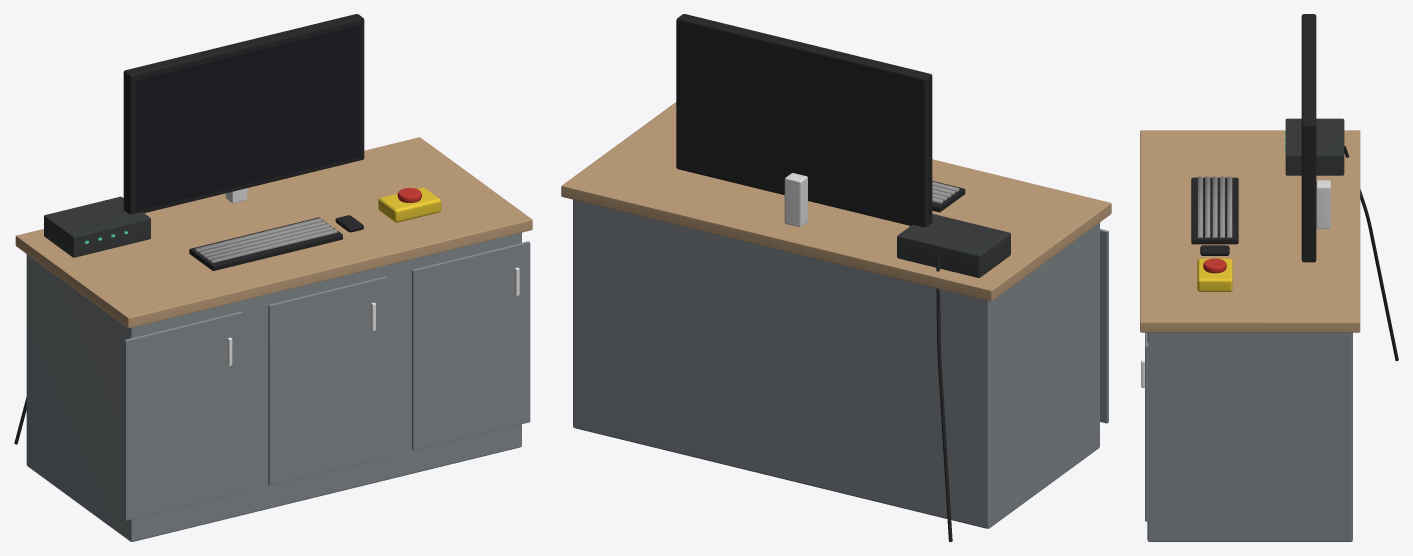
The model's file is industrial.workshop.dyno_desk.glb.
The picture shows the model from 3 angles, left to right: view 1: azimuth 30°, elevation 25°; view 2: azimuth 150°, elevation 25°; view 3: azimuth 270°, elevation 25°; orthographic projection. The views are drawn at different scales.
Parts seen in each view (by area): view 1: main__paint_889, main__timber_ca7, main__paint_122, main__paint_222, main__paint_333, main__paint_999, main__paint_ec3; view 2: main__paint_889, main__paint_222, main__timber_ca7, main__paint_333, main__galv_eee; view 3: main__paint_889, main__timber_ca7, main__paint_222, main__paint_333, main__paint_999, main__paint_ec3, main__galv_eee.
Part boxes in pixels (left/top/right/bottom): main__paint_889: left=26, top=232, right=530, bottom=541; main__timber_ca7: left=15, top=137, right=532, bottom=328; main__paint_122: left=136, top=25, right=360, bottom=211; main__paint_222: left=14, top=14, right=364, bottom=444; main__paint_333: left=44, top=196, right=150, bottom=257; main__paint_999: left=194, top=218, right=337, bottom=263; main__paint_ec3: left=378, top=187, right=441, bottom=222; main__paint_889: left=573, top=199, right=1108, bottom=528; main__paint_222: left=676, top=14, right=965, bottom=541; main__timber_ca7: left=561, top=102, right=1111, bottom=301; main__paint_333: left=897, top=214, right=1010, bottom=277; main__galv_eee: left=784, top=173, right=807, bottom=227; main__paint_889: left=1145, top=332, right=1352, bottom=541; main__timber_ca7: left=1140, top=130, right=1360, bottom=332; main__paint_222: left=1191, top=14, right=1398, bottom=361; main__paint_333: left=1285, top=118, right=1344, bottom=175; main__paint_999: left=1197, top=176, right=1232, bottom=237; main__paint_ec3: left=1197, top=258, right=1232, bottom=291; main__galv_eee: left=1316, top=180, right=1330, bottom=228.
Bounding box in the file's own units: 1.55 × 1.43 × 0.8809.
